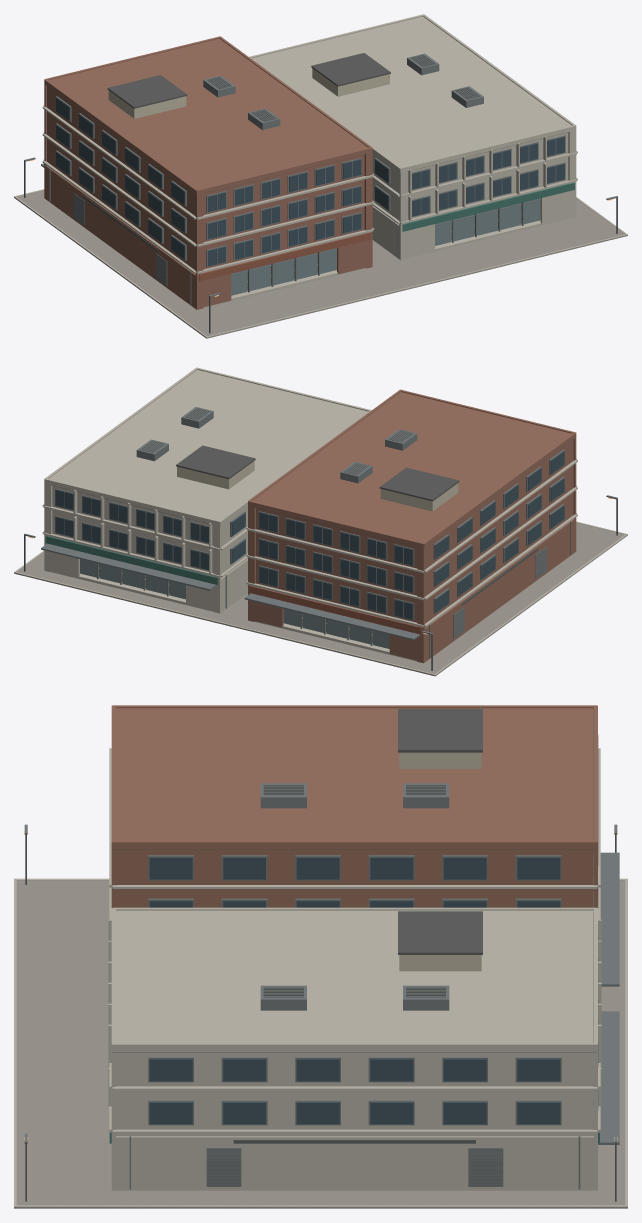
Rendered from block-2-1.glb.
3 views of the same model, one above another, from view 1: azimuth 30°, elevation 25°; view 2: azimuth 150°, elevation 25°; view 3: azimuth 270°, elevation 25° (orthographic). The views are drawn at different scales.
Visible parts, largest first — view 1: block-2-1:brick, block-2-1:concrete, block-2-1:paversGrey, block-2-1:glass, block-2-1:aluminium, block-2-1:shopGlass, block-2-1:roof, block-2-1:stucco, block-2-1:darkSteel, block-2-1:oxideTrim, block-2-1:greenTrim; view 2: block-2-1:brick, block-2-1:concrete, block-2-1:glass, block-2-1:aluminium, block-2-1:paversGrey, block-2-1:roof, block-2-1:shopGlass, block-2-1:stucco, block-2-1:darkSteel, block-2-1:greenTrim, block-2-1:oxideTrim; view 3: block-2-1:concrete, block-2-1:brick, block-2-1:paversGrey, block-2-1:glass, block-2-1:aluminium, block-2-1:roof, block-2-1:darkSteel, block-2-1:stucco.
Boxes of the visible parts, x1,y1,x2,y2 form: block-2-1:brick: (44,36,372,309); block-2-1:concrete: (14,14,627,337); block-2-1:paversGrey: (14,190,627,338); block-2-1:glass: (56,98,564,266); block-2-1:aluminium: (24,53,617,304); block-2-1:shopGlass: (231,198,540,295); block-2-1:roof: (107,53,567,193); block-2-1:stucco: (108,68,389,118); block-2-1:darkSteel: (24,54,617,333); block-2-1:oxideTrim: (199,232,371,281); block-2-1:greenTrim: (402,182,574,231); block-2-1:brick: (248,389,576,663); block-2-1:concrete: (14,367,627,676); block-2-1:glass: (55,451,564,619); block-2-1:aluminium: (24,407,617,657); block-2-1:paversGrey: (14,522,626,676); block-2-1:roof: (51,445,459,548); block-2-1:shopGlass: (80,559,389,648); block-2-1:stucco: (177,461,458,511); block-2-1:darkSteel: (24,408,617,670); block-2-1:greenTrim: (45,536,218,584); block-2-1:oxideTrim: (249,585,421,634); block-2-1:concrete: (14,748,627,1208); block-2-1:brick: (111,705,597,907); block-2-1:paversGrey: (14,880,627,1208); block-2-1:glass: (149,857,560,1124); block-2-1:aluminium: (24,735,619,1189); block-2-1:roof: (113,709,596,1052); block-2-1:darkSteel: (25,785,616,1201); block-2-1:stucco: (399,752,481,971).
Bounding box in the file's own units: 48 × 14.31 × 38.
